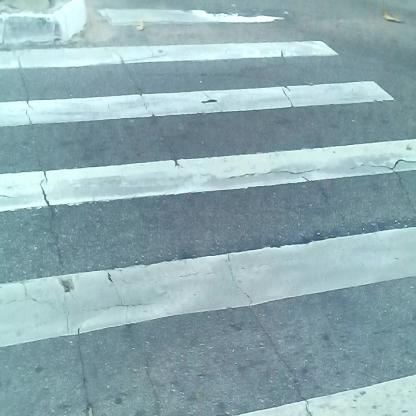crosswalk: (2, 40, 413, 400)
